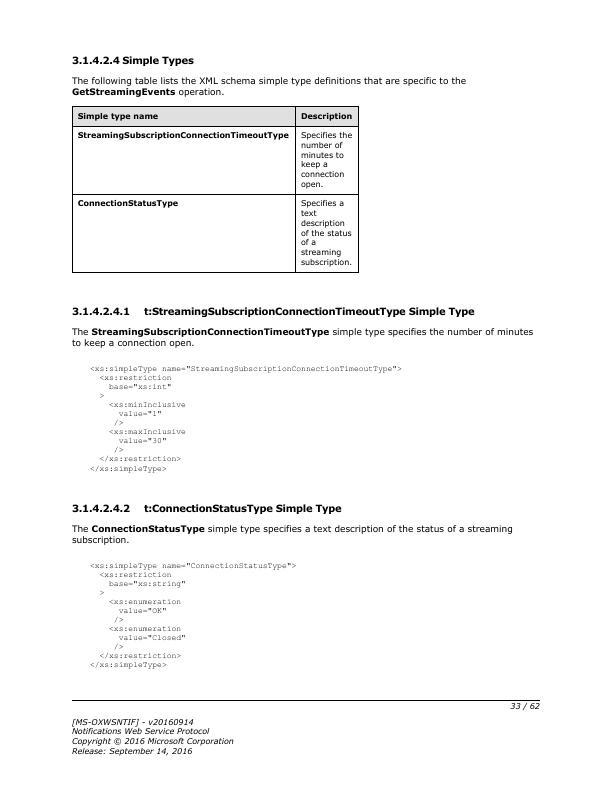table: (71, 105, 361, 276)
text: (87, 361, 402, 475), (85, 559, 301, 671), (68, 323, 534, 350), (68, 521, 514, 546), (68, 73, 470, 98), (67, 714, 236, 757), (68, 303, 480, 318), (66, 501, 344, 515), (68, 52, 197, 70)
